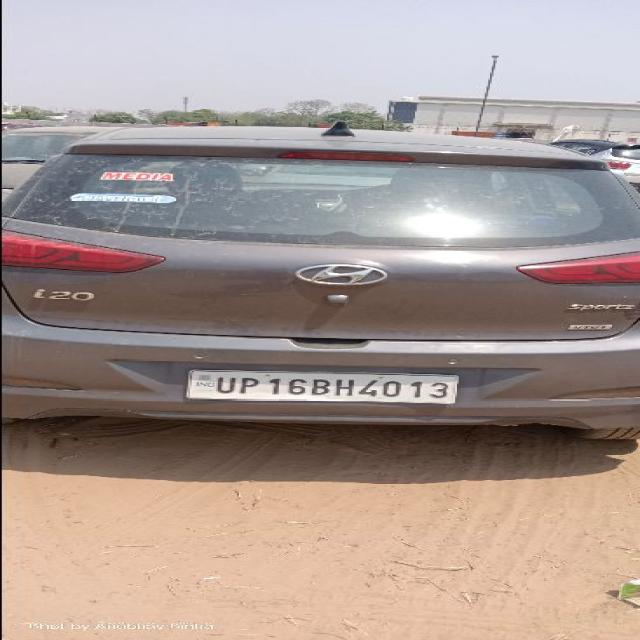license_plate: (183, 368, 459, 404)
